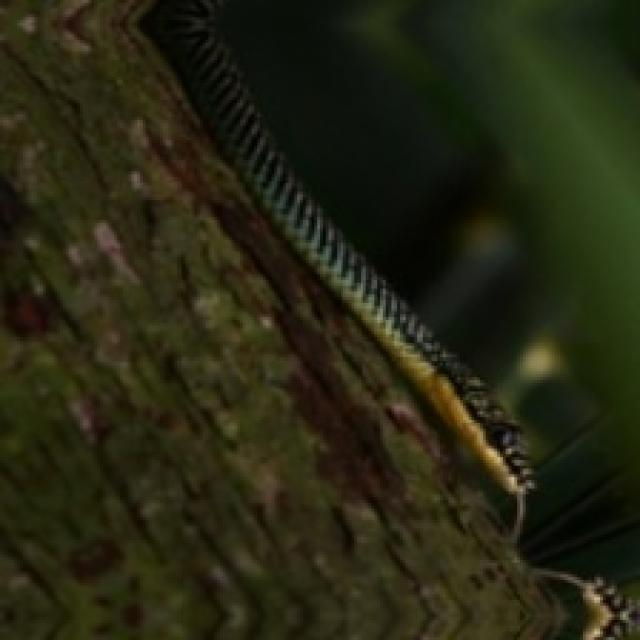paradise tree snake: (143, 0, 531, 534), (146, 0, 531, 537)
